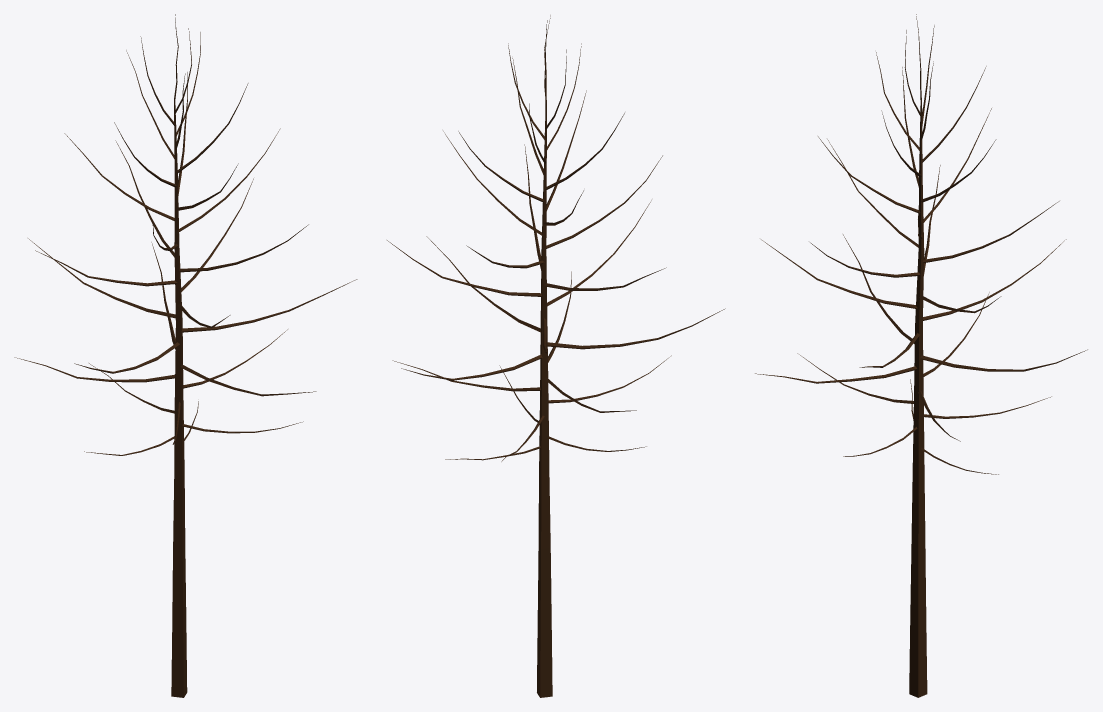
Rendered from Tree_004.fbx.
The picture shows the model from 3 angles, left to right: view 1: azimuth 30°, elevation 25°; view 2: azimuth 150°, elevation 25°; view 3: azimuth 270°, elevation 25°; orthographic projection.
Parts seen in each view (by area): view 1: tree_004; view 2: tree_004; view 3: tree_004.
Boxes of the visible parts, <box> form: tree_004: <box>14,14,357,697</box>; tree_004: <box>387,15,725,697</box>; tree_004: <box>755,14,1087,697</box>.
Bounding box in the file's own units: 460 × 1027 × 460.
